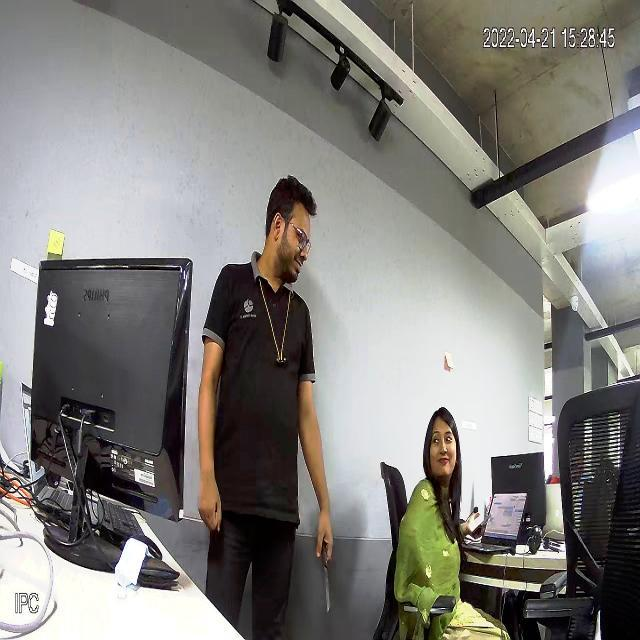Knife: (320, 536, 352, 622)
